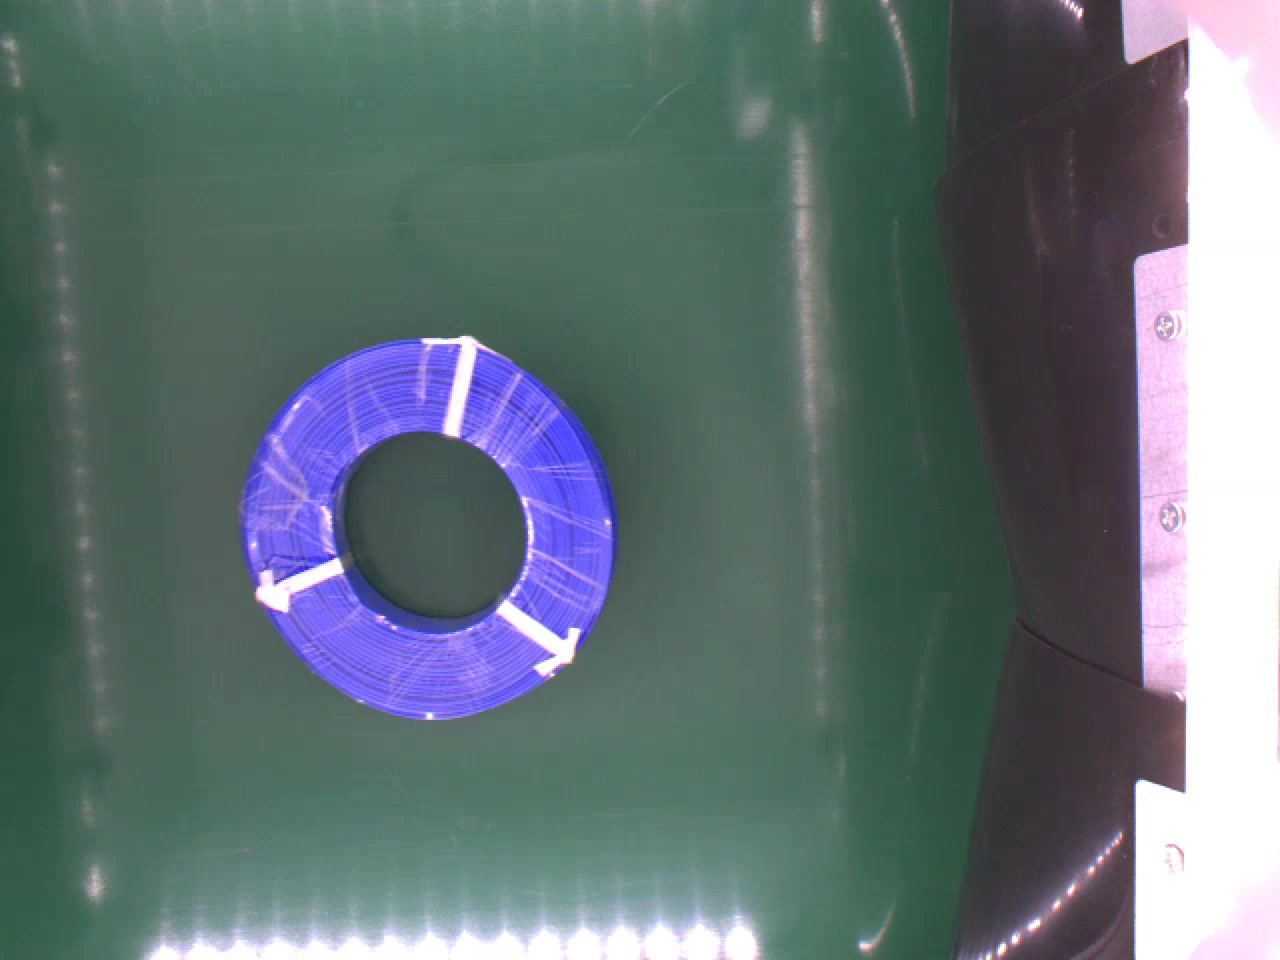blue: (236, 328, 619, 723)
